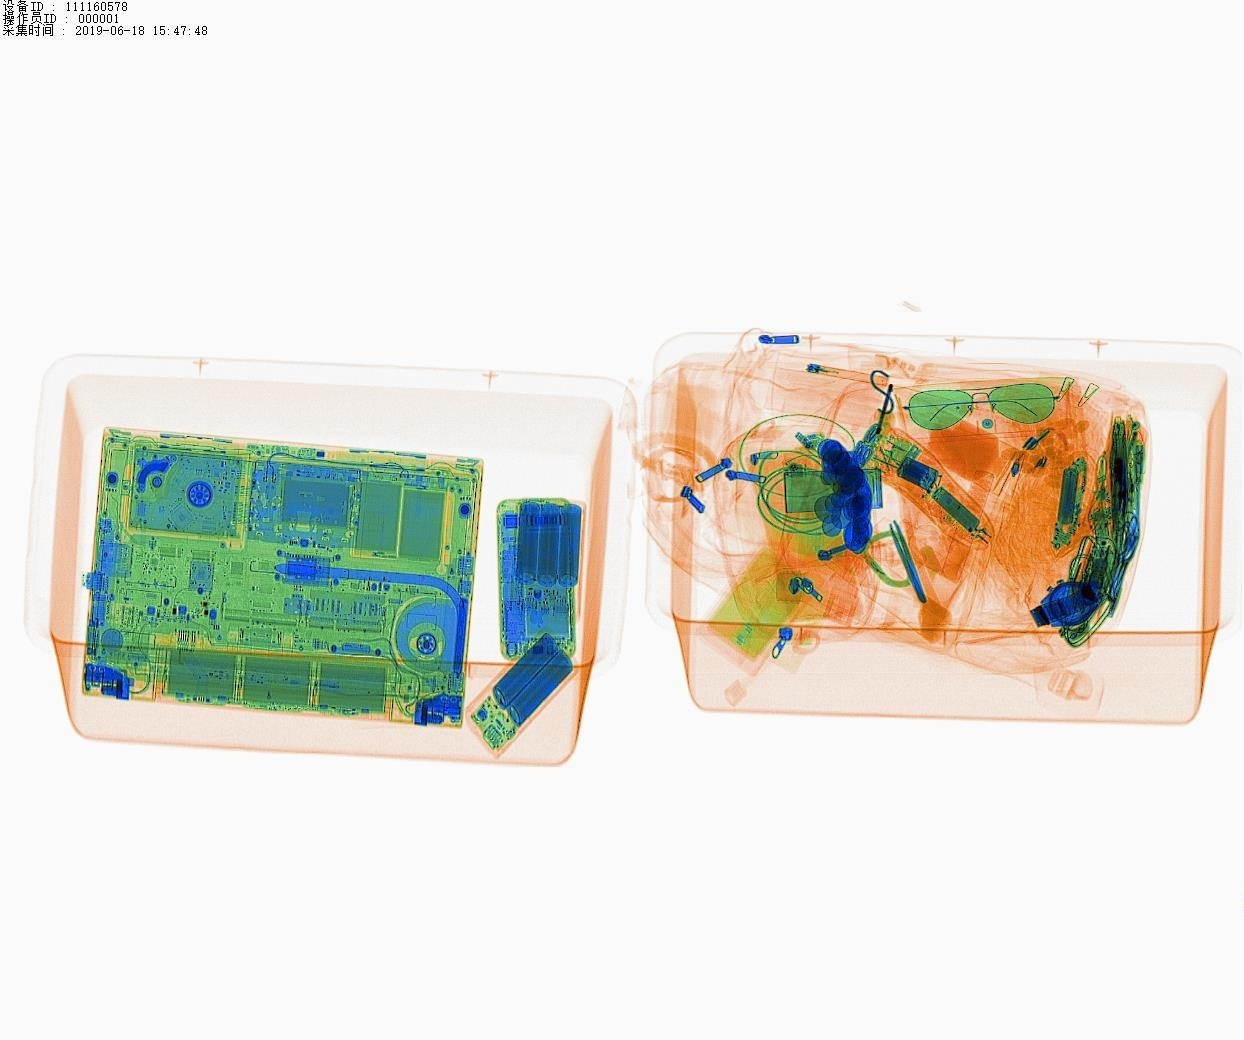NonmetallicFire: (799, 351, 901, 400)
